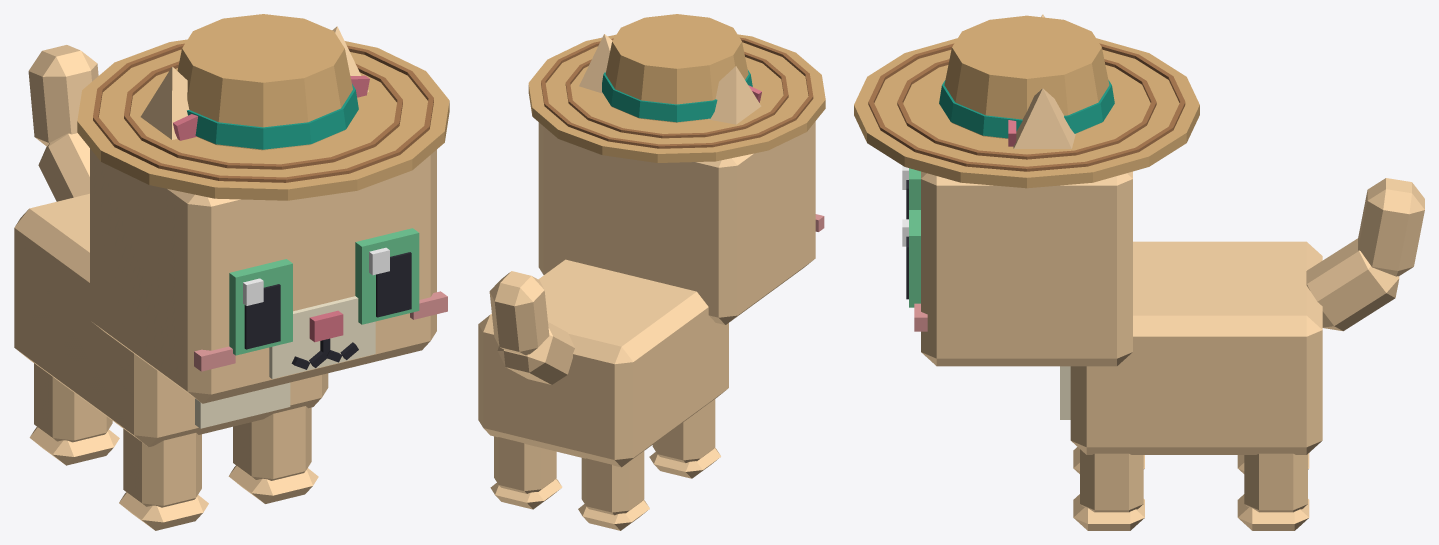
File: CatCafe_Cat_Sandy.glb
The picture shows the model from 3 angles, left to right: view 1: azimuth 30°, elevation 25°; view 2: azimuth 150°, elevation 25°; view 3: azimuth 270°, elevation 25°; orthographic projection. The views are drawn at different scales.
Parts seen in each view (by area): view 1: CatCafe_Cat_Sandy_Head, CatCafe_Cat_Sandy_Prop, CatCafe_Cat_Sandy_Body, CatCafe_Cat_Sandy_Tail, CatCafe_Cat_Sandy_LegF2, CatCafe_Cat_Sandy_LegF1, CatCafe_Cat_Sandy_Eye1, CatCafe_Cat_Sandy_Eye2, CatCafe_Cat_Sandy_LegB2, CatCafe_Cat_Sandy_EarR, CatCafe_Cat_Sandy_EarL; view 2: CatCafe_Cat_Sandy_Head, CatCafe_Cat_Sandy_Body, CatCafe_Cat_Sandy_Prop, CatCafe_Cat_Sandy_Tail, CatCafe_Cat_Sandy_LegB2, CatCafe_Cat_Sandy_LegB1, CatCafe_Cat_Sandy_LegF2, CatCafe_Cat_Sandy_EarR, CatCafe_Cat_Sandy_EarL; view 3: CatCafe_Cat_Sandy_Body, CatCafe_Cat_Sandy_Prop, CatCafe_Cat_Sandy_Head, CatCafe_Cat_Sandy_Tail, CatCafe_Cat_Sandy_LegF1, CatCafe_Cat_Sandy_LegB1, CatCafe_Cat_Sandy_EarL, CatCafe_Cat_Sandy_Eye1, CatCafe_Cat_Sandy_Eye2.
Part boxes in pixels (x1,y1,x2,y2): CatCafe_Cat_Sandy_Head: (90,148,447,403); CatCafe_Cat_Sandy_Prop: (77,14,449,200); CatCafe_Cat_Sandy_Body: (14,193,328,446); CatCafe_Cat_Sandy_Tail: (28,45,98,201); CatCafe_Cat_Sandy_LegF2: (119,428,208,530); CatCafe_Cat_Sandy_LegF1: (228,406,318,503); CatCafe_Cat_Sandy_Eye1: (355,228,419,324); CatCafe_Cat_Sandy_Eye2: (229,259,292,355); CatCafe_Cat_Sandy_LegB2: (29,363,119,465); CatCafe_Cat_Sandy_EarR: (140,66,197,140); CatCafe_Cat_Sandy_EarL: (332,26,369,97); CatCafe_Cat_Sandy_Head: (538,121,824,324); CatCafe_Cat_Sandy_Body: (478,259,728,467); CatCafe_Cat_Sandy_Prop: (528,14,825,162); CatCafe_Cat_Sandy_Tail: (489,271,574,384); CatCafe_Cat_Sandy_LegB2: (578,451,649,530); CatCafe_Cat_Sandy_LegB1: (490,436,562,509); CatCafe_Cat_Sandy_LegF2: (649,399,720,478); CatCafe_Cat_Sandy_EarR: (708,66,761,124); CatCafe_Cat_Sandy_EarL: (579,34,612,93); CatCafe_Cat_Sandy_Body: (1060,241,1322,454); CatCafe_Cat_Sandy_Prop: (854,15,1199,188); CatCafe_Cat_Sandy_Head: (914,171,1132,366); CatCafe_Cat_Sandy_Tail: (1306,178,1424,331); CatCafe_Cat_Sandy_LegF1: (1073,449,1144,530); CatCafe_Cat_Sandy_LegB1: (1237,453,1309,530); CatCafe_Cat_Sandy_EarL: (1008,88,1075,148); CatCafe_Cat_Sandy_Eye1: (902,210,920,307); CatCafe_Cat_Sandy_Eye2: (902,165,920,219).
Bounding box in the file's own units: 1.3 × 1.87 × 2.15.
Materials: 1 (1 with a texture image).
